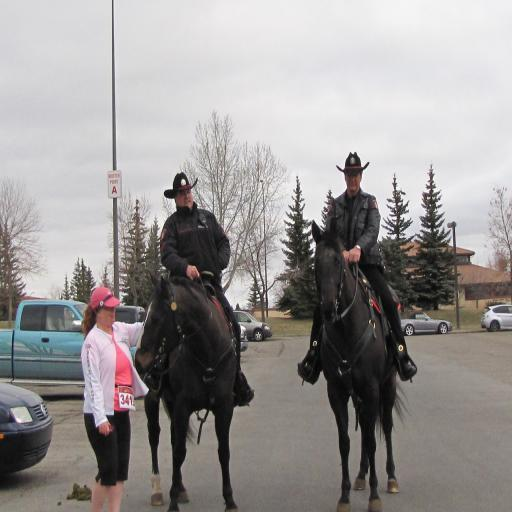horse: (310, 216, 412, 512), (133, 272, 240, 512)
